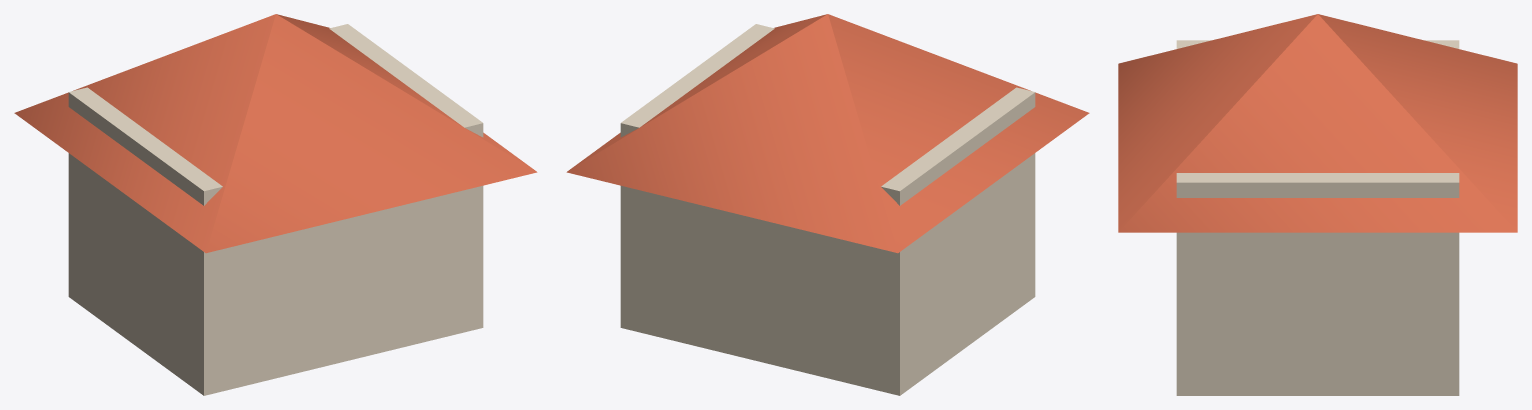
Rendered from house.glb.
3 views of the same model, side by side, from view 1: azimuth 30°, elevation 25°; view 2: azimuth 150°, elevation 25°; view 3: azimuth 270°, elevation 25° (orthographic). The views are drawn at different scales.
Parts seen in each view (by area): view 1: House; view 2: House; view 3: House.
Boxes of the visible parts, x1=… form: House: x1=14, y1=14, x2=537, y2=395; House: x1=566, y1=14, x2=1089, y2=395; House: x1=1118, y1=14, x2=1517, y2=395.
Size of the model in its own units: 0.594 by 0.51 by 0.594.
